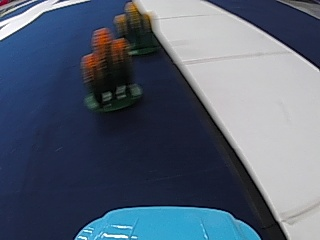corn: (78, 9, 145, 117), (107, 1, 154, 57)
